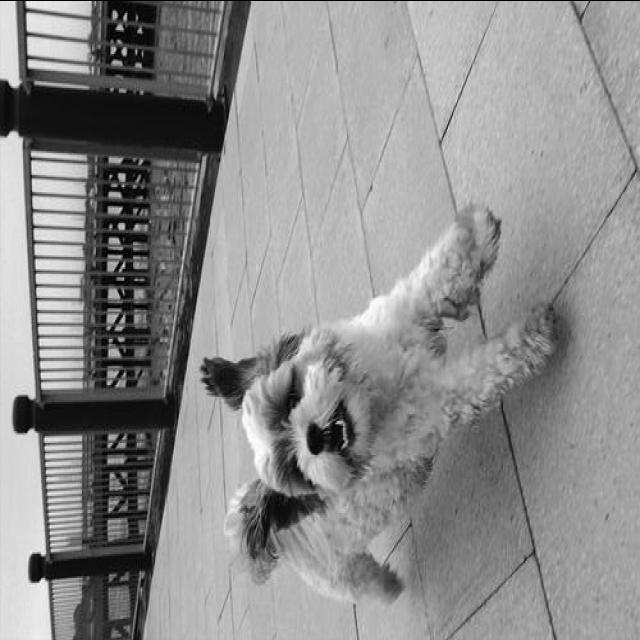shih_tzu: (200, 206, 564, 606)
